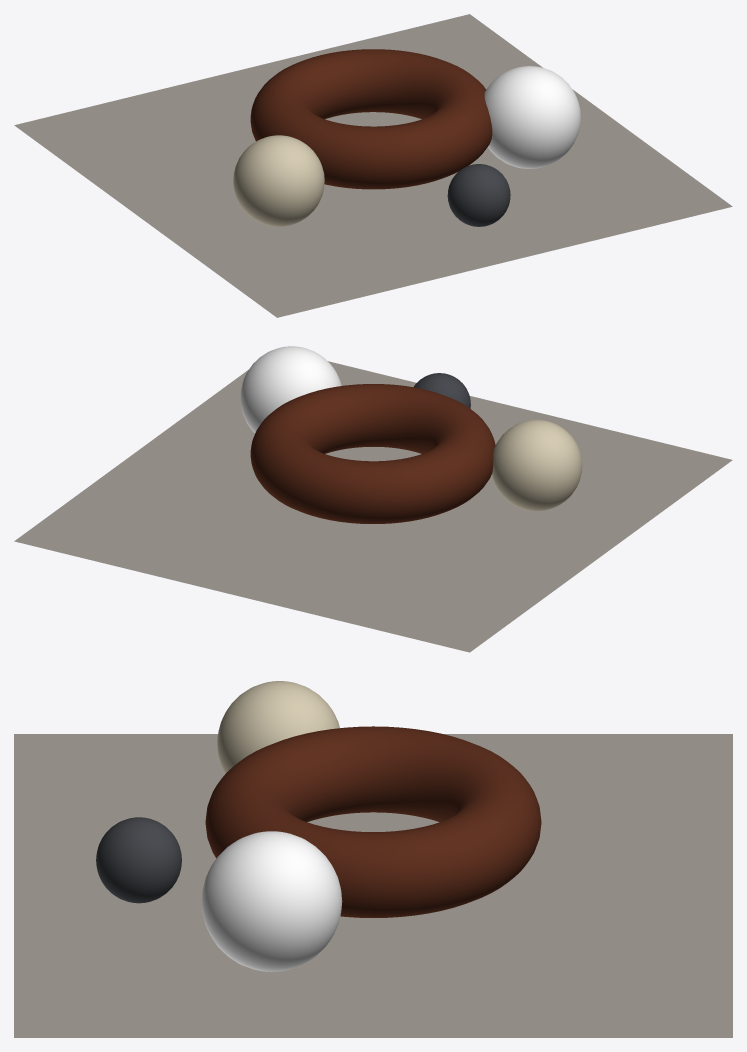
File: showcase.obj
3 renders of one model, top to bottom at view 1: azimuth 30°, elevation 25°; view 2: azimuth 150°, elevation 25°; view 3: azimuth 270°, elevation 25°, orthographic. The views are drawn at different scales.
Bounding box in the file's own units: 920 × 180 × 920.
